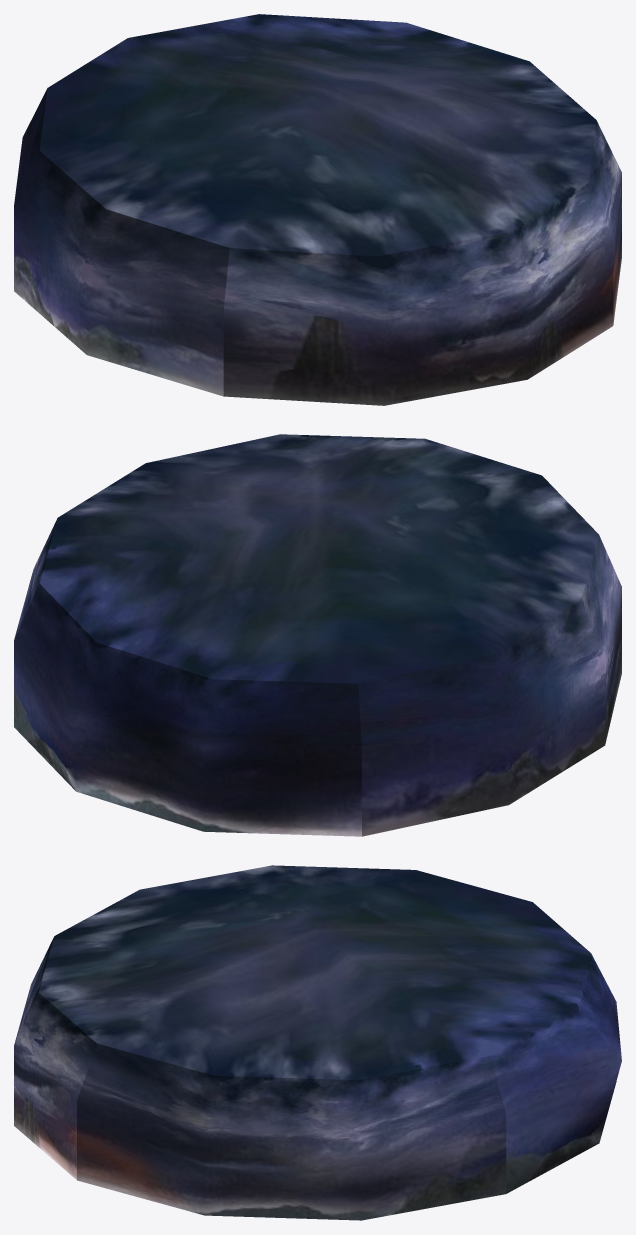
Rendered from gsctk.obj.
The picture shows the model from 3 angles, top to bottom: view 1: azimuth 30°, elevation 25°; view 2: azimuth 150°, elevation 25°; view 3: azimuth 270°, elevation 25°; orthographic projection. The views are drawn at different scales.
Visible parts, largest first — view 1: gsctk; view 2: gsctk; view 3: gsctk.
Part boxes in pixels (x1,y1,x2,y2): gsctk: [14, 14, 621, 405]; gsctk: [14, 434, 621, 836]; gsctk: [14, 865, 621, 1220].
Bounding box in the file's own units: 8203 × 2905 × 8989.
